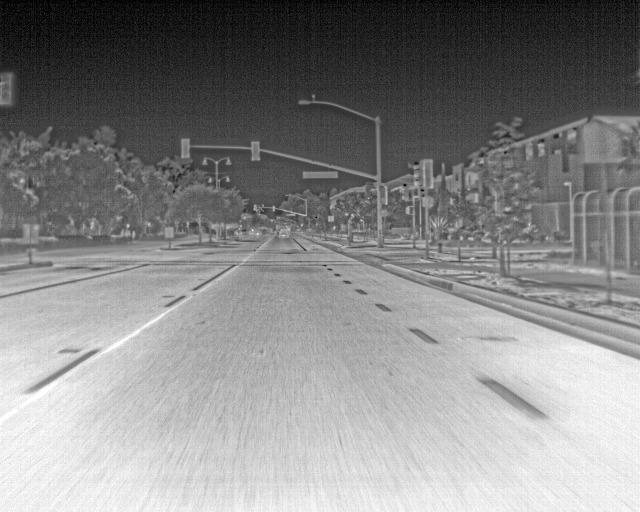car: (248, 228, 262, 237), (279, 229, 290, 238), (238, 229, 248, 236)
light: (0, 73, 12, 105), (413, 164, 423, 186), (465, 192, 479, 204), (401, 183, 408, 200), (380, 186, 385, 204), (183, 141, 188, 157), (253, 143, 258, 159), (439, 242, 443, 253), (406, 207, 410, 214), (253, 205, 256, 210), (273, 206, 275, 212)
sign: (24, 225, 38, 244), (303, 172, 337, 178), (423, 197, 433, 207), (165, 228, 174, 238), (382, 210, 387, 216), (328, 216, 334, 221), (286, 214, 295, 216)
